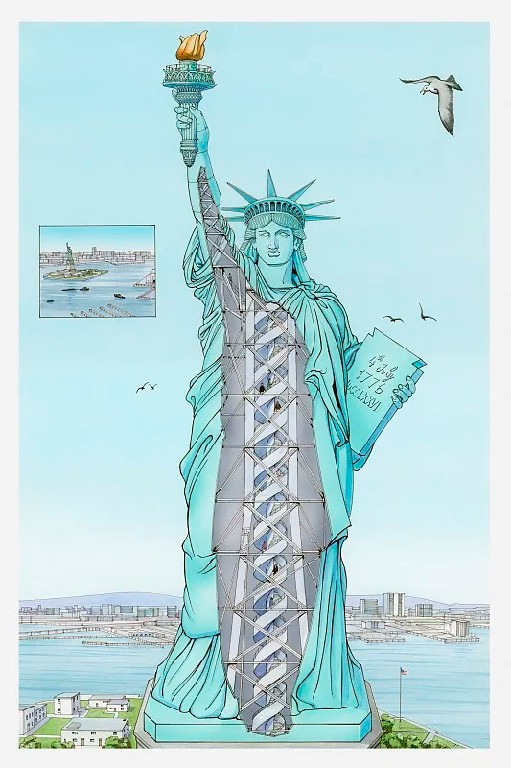SL: (133, 32, 426, 746), (63, 241, 75, 271)
